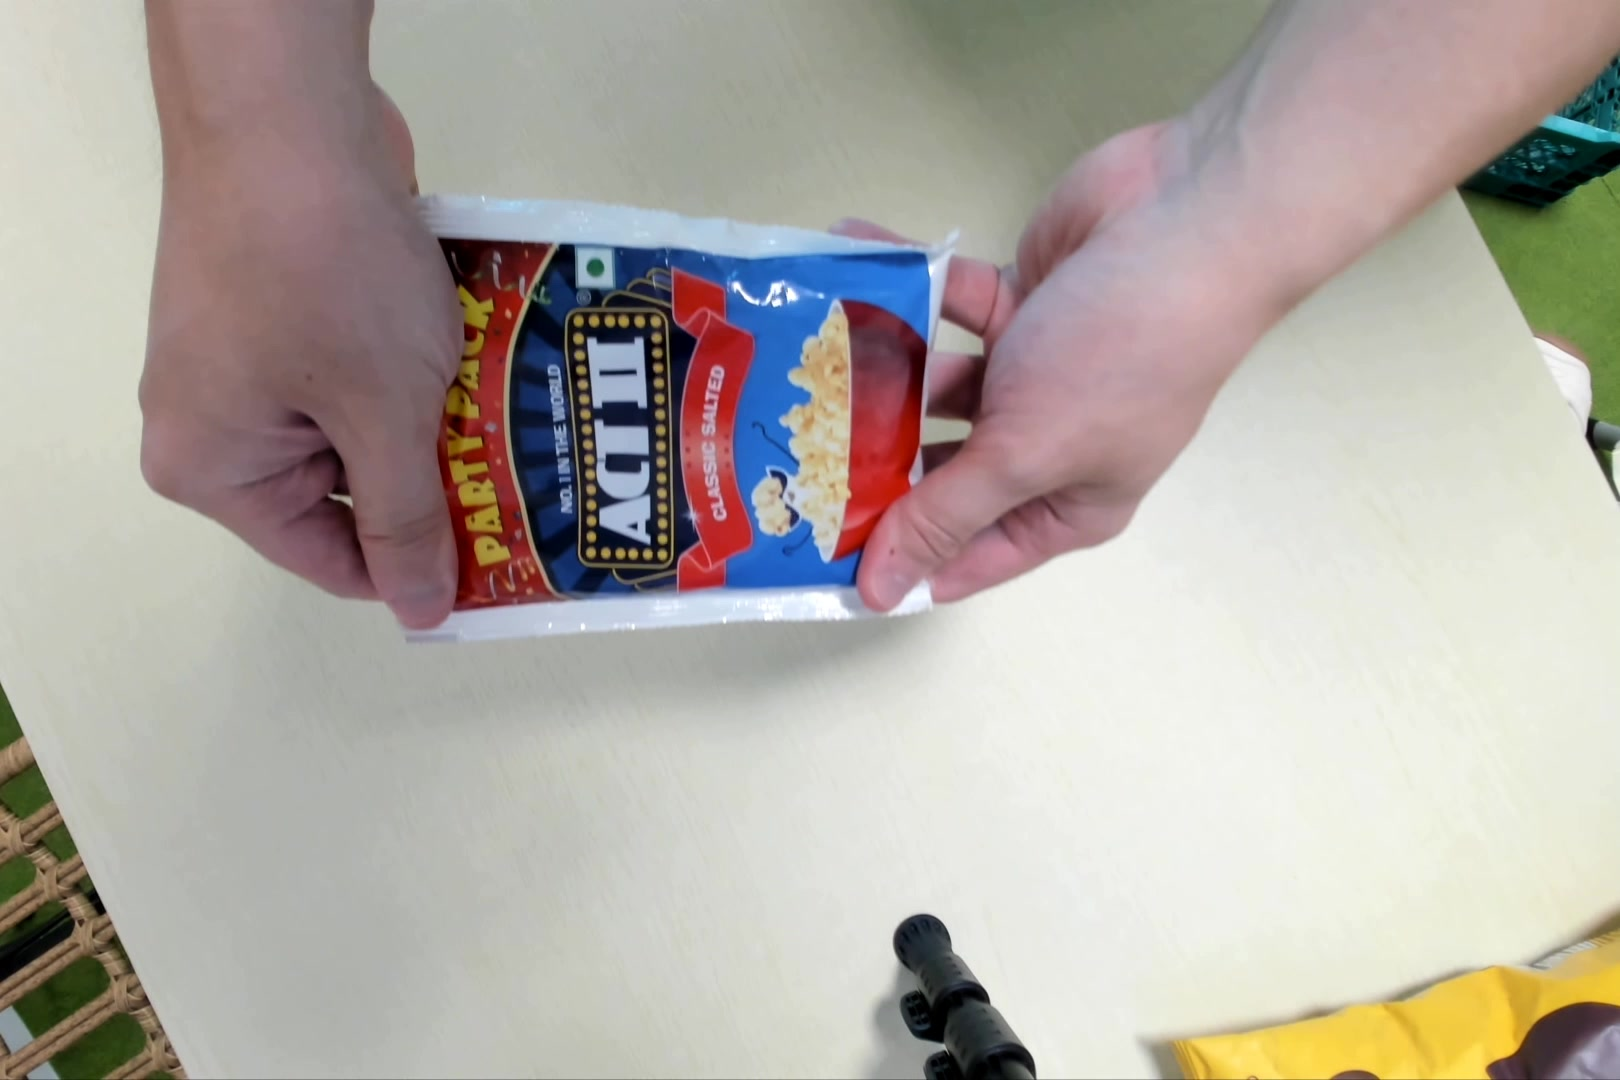PotatoChipsKeropok_100-199g_NonHalal_NonHealthy: (385, 192, 953, 635)
